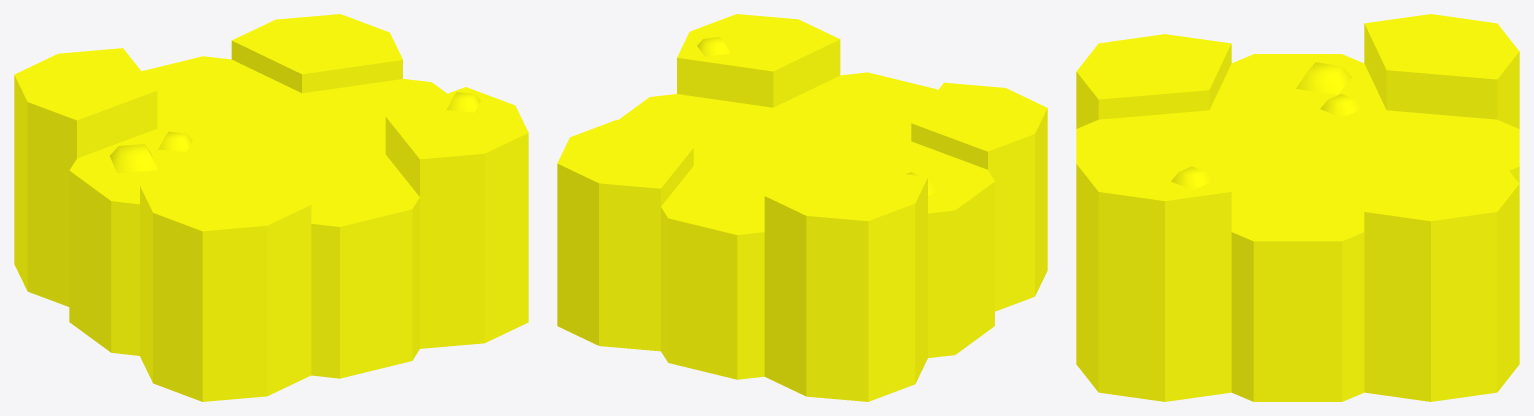
Rendered from _fbx_all_rocks-low.glb.
3 renders of one model, left to right at view 1: azimuth 30°, elevation 25°; view 2: azimuth 150°, elevation 25°; view 3: azimuth 270°, elevation 25°, orthographic. The views are drawn at different scales.
Visible parts, largest first — view 1: rocks-low; view 2: rocks-low; view 3: rocks-low.
Boxes of the visible parts, x1,y1,x2,y2 form: rocks-low: [14, 14, 528, 401]; rocks-low: [557, 14, 1047, 401]; rocks-low: [1076, 14, 1519, 401].
Bounding box in the file's own units: 1 × 0.5228 × 1.
Materials: 1 (1 with a texture image).
